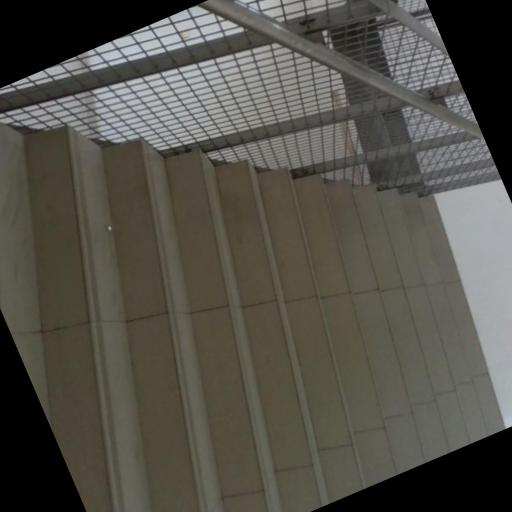stairs: (0, 125, 502, 511)
